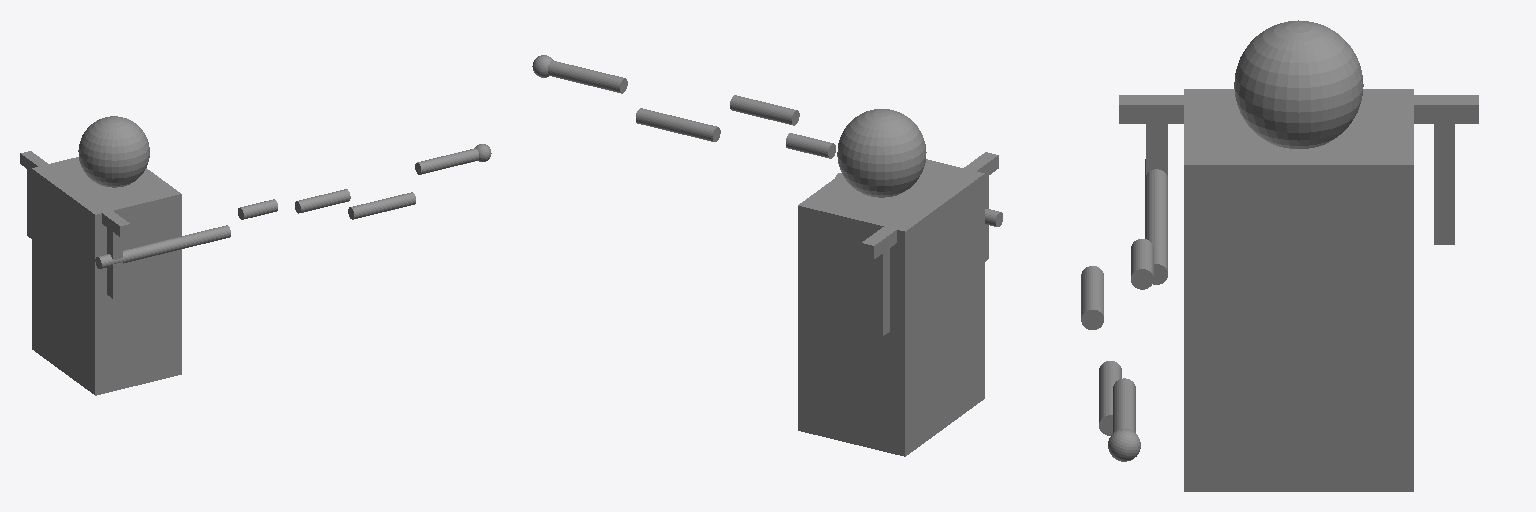
robot.urdf — arm_demo:
<?xml version="1.0" encoding="utf-8"?>
<!-- =================================================================================== -->
<!-- |    This document was autogenerated by xacro from 4dof_robot.xacro               | -->
<!-- |    EDITING THIS FILE BY HAND IS NOT RECOMMENDED                                 | -->
<!-- =================================================================================== -->
<robot name="arm_demo">
  <!-- *************************** XACRO MACROS *************************** -->
  <!-- ************************* ROBOT DEFINITION ************************* -->
  <link name="world"/>
  <link name="shoulder_len">
    <visual>
      <origin rpy="0 0 0" xyz="0 .2475 0"/>
      <geometry>
        <box size="0.03 0.5 0.03"/>
      </geometry>
      <material name="silver">
        <color rgba="0.6 0.6 0.6 1"/>
      </material>
    </visual>
    <collision>
      <origin rpy="0 0 0" xyz="0 -.2475 0"/>
      <geometry>
        <box size="0.03 0.5 0.03"/>
      </geometry>
    </collision>
    <inertial>
      <origin rpy="0 0 0" xyz="0 .2475 0"/>
      <mass value="1.0"/>
      <inertia ixx=".021" ixy="0.0" ixz="0.0" iyy=".021" iyz="0.0" izz=".00015"/>
    </inertial>
  </link>
  <link name="body">
    <visual>
      <origin rpy="0 0 0" xyz=".09 0.2475 -.25"/>
      <geometry>
        <box size="0.25 0.32 .5"/>
      </geometry>
      <material name="silver">
        <color rgba="0.6 0.6 0.6 1"/>
      </material>
    </visual>
    <collision>
      <origin rpy="0 0 0" xyz=".09 0.2475 -.25"/>
      <geometry>
        <box size="0.18 0.32 0.5"/>
      </geometry>
    </collision>
    <inertial>
      <origin rpy="0 0 0" xyz=".09 .2475 -.25"/>
      <mass value="1.0"/>
      <inertia ixx=".112" ixy="0.0" ixz="0.0" iyy=".029" iyz="0.0" izz=".0235"/>
    </inertial>
  </link>
  <link name="head">
    <visual>
      <origin rpy="0 0 0" xyz=".09 0.2475 .09"/>
      <geometry>
        <sphere radius="0.09"/>
      </geometry>
      <material name="silver">
        <color rgba="0.6 0.6 0.6 1"/>
      </material>
    </visual>
    <collision>
      <origin rpy="0 0 0" xyz=".09 0.2475 .09"/>
      <geometry>
        <sphere radius="0.09"/>
      </geometry>
    </collision>
    <inertial>
      <origin rpy="0 0 0" xyz=".09 0.2475 .09"/>
      <mass value="1.0"/>
      <inertia ixx=".00324" ixy="0.0" ixz="0.0" iyy=".00324" iyz="0.0" izz=".00324"/>
    </inertial>
  </link>
  <link name="rodR">
    <visual>
      <origin rpy="0 0 0" xyz="0 .02 -.1"/>
      <geometry>
        <box size="0.03 0.03 0.2"/>
      </geometry>
      <material name="silver">
        <color rgba="0.6 0.6 0.6 1"/>
      </material>
    </visual>
    <collision>
      <origin rpy="0 0 0" xyz="0 -.025 -.1"/>
      <geometry>
        <box size="0.03 0.03 0.2"/>
      </geometry>
    </collision>
    <inertial>
      <origin rpy="0 0 0" xyz="0 -.025 -.1"/>
      <mass value="1.0"/>
      <inertia ixx=".0034" ixy="0.0" ixz="0.0" iyy=".0034" iyz="0.0" izz=".00015"/>
    </inertial>
  </link>
  <link name="rodL">
    <visual>
      <origin rpy="0 0 0" xyz="0 -.025 -.1"/>
      <geometry>
        <box size="0.03 0.03 0.2"/>
      </geometry>
      <material name="silver">
        <color rgba="0.6 0.6 0.6 1"/>
      </material>
    </visual>
    <collision>
      <origin rpy="0 0 0" xyz="0 -.025 -.1"/>
      <geometry>
        <box size="0.03 0.03 0.2"/>
      </geometry>
    </collision>
    <inertial>
      <origin rpy="0 0 0" xyz="0 -.025 -.1"/>
      <mass value="1.0"/>
      <inertia ixx=".0034" ixy="0.0" ixz="0.0" iyy=".0034" iyz="0.0" izz=".00015"/>
    </inertial>
  </link>
  <joint name="right_arm" type="fixed">
    <parent link="world"/>
    <child link="rodR"/>
    <origin rpy="0 0 0" xyz="-.34 0.03 0.5"/>
  </joint>
  <joint name="left_arm" type="fixed">
    <parent link="world"/>
    <child link="rodL"/>
    <origin rpy="0 0 0" xyz="-.34 0.475 0.5"/>
  </joint>
  <joint name="base_base" type="fixed">
    <parent link="world"/>
    <child link="motor1/INPUT_INTERFACE"/>
    <origin rpy="0 0 0" xyz="0 0.03 0.4"/>
  </joint>
  <joint name="base_s" type="fixed">
    <parent link="world"/>
    <child link="ms1/INPUT_INTERFACE"/>
    <origin rpy="0 0 0" xyz="0 0.03 0.4"/>
  </joint>
  <joint name="shoulder" type="fixed">
    <parent link="world"/>
    <child link="shoulder_len"/>
    <origin rpy="0 0 0" xyz="-.34 0 0.5"/>
  </joint>
  <joint name="body" type="fixed">
    <parent link="world"/>
    <child link="body"/>
    <origin rpy="0 0 0" xyz="-.34 0 0.515"/>
  </joint>
  <joint name="head" type="fixed">
    <parent link="world"/>
    <child link="head"/>
    <origin rpy="0 0 0" xyz="-.318 0 0.5"/>
  </joint>
  <link name="motor1/INPUT_INTERFACE">
    <visual>
      <origin rpy="0 0 0" xyz="0 0 0"/>
      <geometry>
        <mesh filename="package://hebi_description/meshes/X5.stl" scale="0.001 0.001 0.001"/>
      </geometry>
      <material name="red">
        <color rgba=".82 0.06 0.06 1"/>
      </material>
    </visual>
    <collision>
      <origin rpy="0 0 0" xyz="0 0 0"/>
      <geometry>
        <mesh filename="package://hebi_description/meshes/X5.stl" scale="0.001 0.001 0.001"/>
      </geometry>
    </collision>
    <inertial>
      <origin rpy="0 0 0" xyz="-0.0142 -0.0031 0.0165"/>
      <mass value="0.322"/>
      <mass value="0.360"/>
      <inertia ixx="0.00015" ixy="0.0000341" ixz="0.0000118" iyy="0.000255" iyz="0.00000229" izz="0.000350"/>
    </inertial>
  </link>
  <joint name="motor1/X5_9" type="continuous">
    <parent link="motor1/INPUT_INTERFACE"/>
    <child link="right_arm1/INPUT_INTERFACE"/>
    <origin rpy="0 0 0" xyz="0 0 0.031"/>
    <axis xyz="0 0 1"/>
    <limit effort="13.0" velocity="14"/>
    <dynamics damping="0.1" friction="0.1"/>
  </joint>
  <gazebo reference="motor1/INPUT_INTERFACE">
    <selfCollide>true</selfCollide>
    <gravity>true</gravity>
    <sensor name="motor1/imu_sensor" type="imu">
      <always_on>true</always_on>
      <update_rate>100</update_rate>
      <visualize>true</visualize>
      <plugin filename="libgazebo_imu_sensor.so" name="imu_plugin">
        <topicName>/hebi_gazebo_plugin/imu/motor1</topicName>
        <bodyName>motor1/imu_link</bodyName>
        <updateRateHZ>10.0</updateRateHZ>
        <gaussianNoise>0.0</gaussianNoise>
        <xyzOffset>0.025 0 0.003</xyzOffset>
        <rpyOffset>0 0 0</rpyOffset>
        <frameName>motor1/imu_link</frameName>
      </plugin>
      <pose>0 0 0 0 0 0</pose>
    </sensor>
  </gazebo>
  <link name="ms1/INPUT_INTERFACE">
    <visual>
      <origin rpy="0 0 0" xyz="0 0 0"/>
      <geometry>
        <mesh filename="package://hebi_description/meshes/A-2039-02.stl"/>
      </geometry>
      <material name="black">
        <color rgba="0 0 0 1"/>
      </material>
    </visual>
    <visual>
      <origin rpy="0 1.57075 0" xyz="-0.2 0.02 0"/>
      <geometry>
        <cylinder length="0.3746" radius=".016"/>
      </geometry>
      <material name="silver">
        <color rgba="0.6 0.6 0.6 1"/>
      </material>
    </visual>
    <collision>
      <origin rpy="0 1.57079632679 0" xyz="0 0 0"/>
      <geometry>
        <mesh filename="package://hebi_description/meshes/A-2038-02.stl"/>
      </geometry>
    </collision>
    <collision>
      <origin rpy="0 1.57075 0" xyz="0.2 -0.02 0"/>
      <geometry>
        <cylinder length="0.3746" radius=".016"/>
      </geometry>
    </collision>
    <collision>
      <origin rpy="0 0 0" xyz="0.4 0.0 0.04"/>
      <geometry>
        <mesh filename="package://hebi_description/meshes/A-2039-02.stl"/>
      </geometry>
    </collision>
    <!-- Approximate inertia as thin rod about x axis -->
    <inertial>
      <origin rpy="0 0 0" xyz="0.2 0 0.02"/>
      <mass value="0.432"/>
      <inertia ixx="0.0" ixy="0.0" ixz="0.0" iyy="0.00576" iyz="0.0" izz="0.00576"/>
    </inertial>
  </link>
  <gazebo reference="ms1/INPUT_INTERFACE">
    <selfCollide>true</selfCollide>
  </gazebo>
  <link name="right_arm1/INPUT_INTERFACE">
    <visual>
      <origin rpy="0 0 0" xyz="0 0 0"/>
      <geometry>
        <mesh filename="package://hebi_description/meshes/A-2038-02.stl"/>
      </geometry>
      <material name="black">
        <color rgba="0 0 0 1"/>
      </material>
    </visual>
    <visual>
      <origin rpy="0 1.57075 0" xyz="0.0625 0 0.02"/>
      <geometry>
        <cylinder length="0.0996" radius=".016"/>
      </geometry>
      <material name="silver">
        <color rgba="0.6 0.6 0.6 1"/>
      </material>
    </visual>
    <visual>
      <origin rpy="1.3343 0 0" xyz="0.125 -0.0194432968708 0.0246859584714"/>
      <geometry>
        <mesh filename="package://hebi_description/meshes/A-2039-02.stl"/>
      </geometry>
      <material name="black">
        <color rgba="0 0 0 1"/>
      </material>
    </visual>
    <collision>
      <origin rpy="0 0 0" xyz="0 0 0"/>
      <geometry>
        <mesh filename="package://hebi_description/meshes/A-2038-02.stl"/>
      </geometry>
    </collision>
    <collision>
      <origin rpy="0 1.57075 0" xyz="0.0625 0 0.02"/>
      <geometry>
        <cylinder length="0.0996" radius=".016"/>
      </geometry>
    </collision>
    <collision>
      <origin rpy="1.3343 0 0" xyz="0.125 -0.0194432968708 0.0246859584714"/>
      <geometry>
        <mesh filename="package://hebi_description/meshes/A-2039-02.stl"/>
      </geometry>
    </collision>
    <!-- Approximate inertia as thin rod about x axis -->
    <inertial>
      <origin rpy="0 0 0" xyz="0.0625 0 0.02"/>
      <mass value="0.322"/>
      <inertia ixx="0.0" ixy="0.0" ixz="0.0" iyy="0.000419270833333" iyz="0.0" izz="0.000419270833333"/>
    </inertial>
  </link>
  <joint name="right_arm1/OUTPUT_JOINT" type="fixed">
    <parent link="right_arm1/INPUT_INTERFACE"/>
    <child link="motor2/INPUT_INTERFACE"/>
    <origin rpy="1.3343 0 0" xyz="0.125 -0.0194432968708 0.0246859584714"/>
  </joint>
  <gazebo reference="right_arm1/INPUT_INTERFACE">
    <selfCollide>true</selfCollide>
  </gazebo>
  <link name="motor2/INPUT_INTERFACE">
    <visual>
      <origin rpy="0 0 0" xyz="0 0 0"/>
      <geometry>
        <mesh filename="package://hebi_description/meshes/X5.stl" scale="0.001 0.001 0.001"/>
      </geometry>
      <material name="red">
        <color rgba=".82 0.06 0.06 1"/>
      </material>
    </visual>
    <collision>
      <origin rpy="0 0 0" xyz="0 0 0"/>
      <geometry>
        <mesh filename="package://hebi_description/meshes/X5.stl" scale="0.001 0.001 0.001"/>
      </geometry>
    </collision>
    <inertial>
      <origin rpy="0 0 0" xyz="-0.0142 -0.0031 0.0165"/>
      <mass value="0.322"/>
      <mass value="0.360"/>
      <inertia ixx="0.00015" ixy="0.0000341" ixz="0.0000118" iyy="0.000255" iyz="0.00000229" izz="0.000350"/>
    </inertial>
  </link>
  <joint name="motor2/X5_9" type="continuous">
    <parent link="motor2/INPUT_INTERFACE"/>
    <child link="right_arm2/INPUT_INTERFACE"/>
    <origin rpy="0 0 0" xyz="0 0 0.031"/>
    <axis xyz="0 0 1"/>
    <limit effort="13.0" velocity="14"/>
    <dynamics damping="0.1" friction="0.1"/>
  </joint>
  <gazebo reference="motor2/INPUT_INTERFACE">
    <selfCollide>true</selfCollide>
    <gravity>true</gravity>
    <sensor name="motor2/imu_sensor" type="imu">
      <always_on>true</always_on>
      <update_rate>100</update_rate>
      <visualize>true</visualize>
      <plugin filename="libgazebo_imu_sensor.so" name="imu_plugin">
        <topicName>/hebi_gazebo_plugin/imu/motor2</topicName>
        <bodyName>motor2/imu_link</bodyName>
        <updateRateHZ>10.0</updateRateHZ>
        <gaussianNoise>0.0</gaussianNoise>
        <xyzOffset>0.025 0 0.003</xyzOffset>
        <rpyOffset>0 0 0</rpyOffset>
        <frameName>motor2/imu_link</frameName>
      </plugin>
      <pose>0 0 0 0 0 0</pose>
    </sensor>
  </gazebo>
  <link name="right_arm2/INPUT_INTERFACE">
    <visual>
      <origin rpy="0 0 0" xyz="0 0 0"/>
      <geometry>
        <mesh filename="package://hebi_description/meshes/A-2038-02.stl"/>
      </geometry>
      <material name="black">
        <color rgba="0 0 0 1"/>
      </material>
    </visual>
    <visual>
      <origin rpy="0 1.57075 0" xyz="0.0846 0 0.02"/>
      <geometry>
        <cylinder length="0.1438" radius=".016"/>
      </geometry>
      <material name="silver">
        <color rgba="0.6 0.6 0.6 1"/>
      </material>
    </visual>
    <visual>
      <origin rpy="2.163 0 0" xyz="0.1692 -0.0165942524924 0.00883618415505"/>
      <geometry>
        <mesh filename="package://hebi_description/meshes/A-2039-02.stl"/>
      </geometry>
      <material name="black">
        <color rgba="0 0 0 1"/>
      </material>
    </visual>
    <collision>
      <origin rpy="0 0 0" xyz="0 0 0"/>
      <geometry>
        <mesh filename="package://hebi_description/meshes/A-2038-02.stl"/>
      </geometry>
    </collision>
    <collision>
      <origin rpy="0 1.57075 0" xyz="0.0846 0 0.02"/>
      <geometry>
        <cylinder length="0.1438" radius=".016"/>
      </geometry>
    </collision>
    <collision>
      <origin rpy="2.163 0 0" xyz="0.1692 -0.0165942524924 0.00883618415505"/>
      <geometry>
        <mesh filename="package://hebi_description/meshes/A-2039-02.stl"/>
      </geometry>
    </collision>
    <!-- Approximate inertia as thin rod about x axis -->
    <inertial>
      <origin rpy="0 0 0" xyz="0.0846 0 0.02"/>
      <mass value="0.33968"/>
      <inertia ixx="0.0" ixy="0.0" ixz="0.0" iyy="0.0008103813696" iyz="0.0" izz="0.0008103813696"/>
    </inertial>
  </link>
  <joint name="right_arm2/OUTPUT_JOINT" type="fixed">
    <parent link="right_arm2/INPUT_INTERFACE"/>
    <child link="motor3/INPUT_INTERFACE"/>
    <origin rpy="2.163 0 0" xyz="0.1692 -0.0165942524924 0.00883618415505"/>
  </joint>
  <gazebo reference="right_arm2/INPUT_INTERFACE">
    <selfCollide>true</selfCollide>
  </gazebo>
  <link name="motor3/INPUT_INTERFACE">
    <visual>
      <origin rpy="0 0 0" xyz="0 0 0"/>
      <geometry>
        <mesh filename="package://hebi_description/meshes/X5.stl" scale="0.001 0.001 0.001"/>
      </geometry>
      <material name="red">
        <color rgba=".82 0.06 0.06 1"/>
      </material>
    </visual>
    <collision>
      <origin rpy="0 0 0" xyz="0 0 0"/>
      <geometry>
        <mesh filename="package://hebi_description/meshes/X5.stl" scale="0.001 0.001 0.001"/>
      </geometry>
    </collision>
    <inertial>
      <origin rpy="0 0 0" xyz="-0.0142 -0.0031 0.0165"/>
      <mass value="0.322"/>
      <mass value="0.360"/>
      <inertia ixx="0.00015" ixy="0.0000341" ixz="0.0000118" iyy="0.000255" iyz="0.00000229" izz="0.000350"/>
    </inertial>
  </link>
  <joint name="motor3/X5_9" type="continuous">
    <parent link="motor3/INPUT_INTERFACE"/>
    <child link="right_arm3/INPUT_INTERFACE"/>
    <origin rpy="0 0 0" xyz="0 0 0.031"/>
    <axis xyz="0 0 1"/>
    <limit effort="13.0" velocity="14"/>
    <dynamics damping="0.1" friction="0.1"/>
  </joint>
  <gazebo reference="motor3/INPUT_INTERFACE">
    <selfCollide>true</selfCollide>
    <gravity>true</gravity>
    <sensor name="motor3/imu_sensor" type="imu">
      <always_on>true</always_on>
      <update_rate>100</update_rate>
      <visualize>true</visualize>
      <plugin filename="libgazebo_imu_sensor.so" name="imu_plugin">
        <topicName>/hebi_gazebo_plugin/imu/motor3</topicName>
        <bodyName>motor3/imu_link</bodyName>
        <updateRateHZ>10.0</updateRateHZ>
        <gaussianNoise>0.0</gaussianNoise>
        <xyzOffset>0.025 0 0.003</xyzOffset>
        <rpyOffset>0 0 0</rpyOffset>
        <frameName>motor3/imu_link</frameName>
      </plugin>
      <pose>0 0 0 0 0 0</pose>
    </sensor>
  </gazebo>
  <link name="right_arm3/INPUT_INTERFACE">
    <visual>
      <origin rpy="0 0 0" xyz="0 0 0"/>
      <geometry>
        <mesh filename="package://hebi_description/meshes/A-2038-02.stl"/>
      </geometry>
      <material name="black">
        <color rgba="0 0 0 1"/>
      </material>
    </visual>
    <visual>
      <origin rpy="0 1.57075 0" xyz="0.1024 0 0.02"/>
      <geometry>
        <cylinder length="0.1794" radius=".016"/>
      </geometry>
      <material name="silver">
        <color rgba="0.6 0.6 0.6 1"/>
      </material>
    </visual>
    <visual>
      <origin rpy="-3.7736 0 0" xyz="0.2048 -0.0118153112202 0.00386313472914"/>
      <geometry>
        <mesh filename="package://hebi_description/meshes/A-2039-02.stl"/>
      </geometry>
      <material name="black">
        <color rgba="0 0 0 1"/>
      </material>
    </visual>
    <collision>
      <origin rpy="0 0 0" xyz="0 0 0"/>
      <geometry>
        <mesh filename="package://hebi_description/meshes/A-2038-02.stl"/>
      </geometry>
    </collision>
    <collision>
      <origin rpy="0 1.57075 0" xyz="0.1024 0 0.02"/>
      <geometry>
        <cylinder length="0.1794" radius=".016"/>
      </geometry>
    </collision>
    <collision>
      <origin rpy="-3.7736 0 0" xyz="0.2048 -0.0118153112202 0.00386313472914"/>
      <geometry>
        <mesh filename="package://hebi_description/meshes/A-2039-02.stl"/>
      </geometry>
    </collision>
    <!-- Approximate inertia as thin rod about x axis -->
    <inertial>
      <origin rpy="0 0 0" xyz="0.1024 0 0.02"/>
      <mass value="0.35392"/>
      <inertia ixx="0.0" ixy="0.0" ixz="0.0" iyy="0.00123704005973" iyz="0.0" izz="0.00123704005973"/>
    </inertial>
  </link>
  <joint name="right_arm3/OUTPUT_JOINT" type="fixed">
    <parent link="right_arm3/INPUT_INTERFACE"/>
    <child link="motor4/INPUT_INTERFACE"/>
    <origin rpy="-3.7736 0 0" xyz="0.2048 -0.0118153112202 0.00386313472914"/>
  </joint>
  <gazebo reference="right_arm3/INPUT_INTERFACE">
    <selfCollide>true</selfCollide>
  </gazebo>
  <link name="motor4/INPUT_INTERFACE">
    <visual>
      <origin rpy="0 0 0" xyz="0 0 0"/>
      <geometry>
        <mesh filename="package://hebi_description/meshes/X5.stl" scale="0.001 0.001 0.001"/>
      </geometry>
      <material name="red">
        <color rgba=".82 0.06 0.06 1"/>
      </material>
    </visual>
    <collision>
      <origin rpy="0 0 0" xyz="0 0 0"/>
      <geometry>
        <mesh filename="package://hebi_description/meshes/X5.stl" scale="0.001 0.001 0.001"/>
      </geometry>
    </collision>
    <inertial>
      <origin rpy="0 0 0" xyz="-0.0142 -0.0031 0.0165"/>
      <mass value="0.322"/>
      <mass value="0.335"/>
      <inertia ixx="0.00015" ixy="0.0000341" ixz="0.0000118" iyy="0.000255" iyz="0.00000229" izz="0.000350"/>
    </inertial>
  </link>
  <joint name="motor4/X5_4" type="continuous">
    <parent link="motor4/INPUT_INTERFACE"/>
    <child link="sensor/INPUT_INTERFACE"/>
    <origin rpy="0 0 0" xyz="0 0 0.031"/>
    <axis xyz="0 0 1"/>
    <limit effort="7.0" velocity="32"/>
    <dynamics damping="0.1" friction="0.1"/>
  </joint>
  <gazebo reference="motor4/INPUT_INTERFACE">
    <selfCollide>true</selfCollide>
    <gravity>true</gravity>
    <sensor name="motor4/imu_sensor" type="imu">
      <always_on>true</always_on>
      <update_rate>100</update_rate>
      <visualize>true</visualize>
      <plugin filename="libgazebo_imu_sensor.so" name="imu_plugin">
        <topicName>/hebi_gazebo_plugin/imu/motor4</topicName>
        <bodyName>motor4/imu_link</bodyName>
        <updateRateHZ>10.0</updateRateHZ>
        <gaussianNoise>0.0</gaussianNoise>
        <xyzOffset>0.025 0 0.003</xyzOffset>
        <rpyOffset>0 0 0</rpyOffset>
        <frameName>motor4/imu_link</frameName>
      </plugin>
      <pose>0 0 0 0 0 0</pose>
    </sensor>
  </gazebo>
  <link name="sensor/INPUT_INTERFACE">
    <visual>
      <origin rpy="0 0 0" xyz="0 0 0"/>
      <geometry>
        <mesh filename="package://hebi_description/meshes/A-2038-02.stl"/>
      </geometry>
      <material name="black">
        <color rgba="0 0 0 1"/>
      </material>
    </visual>
    <visual>
      <origin rpy="0 1.57075 0" xyz="0.0967 0 0.02"/>
      <geometry>
        <cylinder length="0.168" radius=".016"/>
      </geometry>
      <material name="silver">
        <color rgba="0.6 0.6 0.6 1"/>
      </material>
    </visual>
    <visual>
      <origin rpy="0 0 0" xyz="0.1984 0 0.02"/>
      <geometry>
        <sphere radius="0.023"/>
      </geometry>
      <material name="silver">
        <color rgba="0.6 0.6 0.6 1"/>
      </material>
    </visual>
    <collision>
      <origin rpy="0 0 0" xyz="0 0 0"/>
      <geometry>
        <mesh filename="package://hebi_description/meshes/A-2038-02.stl"/>
      </geometry>
    </collision>
    <collision>
      <origin rpy="0 1.57075 0" xyz="0.0967 0 0.02"/>
      <geometry>
        <cylinder length="0.168" radius=".016"/>
      </geometry>
    </collision>
    <collision>
      <origin rpy="0 0 0" xyz="0.1934 0 0.02"/>
      <geometry>
        <sphere radius="0.02"/>
      </geometry>
    </collision>
    <!-- Approximate inertia as thin rod about x axis -->
    <inertial>
      <origin rpy="0 0 0" xyz="0.0967 0 0.02"/>
      <mass value="0.34936"/>
      <inertia ixx="0.0" ixy="0.0" ixz="0.0" iyy="0.00108894231013" iyz="0.0" izz="0.00108894231013"/>
    </inertial>
  </link>
  <joint name="end_joint" type="fixed">
    <parent link="sensor/INPUT_INTERFACE"/>
    <child link="end_link/INPUT_INTERFACE"/>
    <origin rpy="0 0 0" xyz="0.1934 0 0.02"/>
  </joint>
  <gazebo reference="sensor/INPUT_INTERFACE">
    <selfCollide>true</selfCollide>
  </gazebo>
  <!-- end link -->
  <link name="end_link/INPUT_INTERFACE">
  </link>
  <gazebo reference="base">
    <selfCollide>true</selfCollide>
  </gazebo>
  <gazebo>
    <plugin filename="libhebi_gazebo_plugin.so" name="hebi_gazebo_plugin">
    </plugin>
  </gazebo>
</robot>

--- Facts derived from the render (not from the file) ---
Views: 3 orthographic renders of the robot side by side, from view 1: azimuth 30°, elevation 25°; view 2: azimuth 150°, elevation 25°; view 3: azimuth 270°, elevation 25°.
Model arm_demo with 16 links and 15 joints (4 continuous, 11 fixed), rooted at world, posed all joints at 0.
Visible links, largest first — view 1: body, head, ms1/INPUT_INTERFACE, shoulder_len, sensor/INPUT_INTERFACE, rodR, right_arm3/INPUT_INTERFACE, right_arm2/INPUT_INTERFACE; view 2: body, head, shoulder_len, rodL, sensor/INPUT_INTERFACE, right_arm3/INPUT_INTERFACE, right_arm2/INPUT_INTERFACE, right_arm1/INPUT_INTERFACE; view 3: body, head, shoulder_len, rodL, ms1/INPUT_INTERFACE, sensor/INPUT_INTERFACE, right_arm2/INPUT_INTERFACE, right_arm3/INPUT_INTERFACE, right_arm1/INPUT_INTERFACE, rodR.
Link boxes in pixels (<box>): body: <box>32,157,181,395</box>; head: <box>78,116,149,187</box>; ms1/INPUT_INTERFACE: <box>95,225,230,268</box>; shoulder_len: <box>20,151,130,236</box>; sensor/INPUT_INTERFACE: <box>415,144,491,174</box>; rodR: <box>107,223,122,298</box>; right_arm3/INPUT_INTERFACE: <box>348,192,415,219</box>; right_arm2/INPUT_INTERFACE: <box>295,189,350,213</box>; body: <box>798,159,984,456</box>; head: <box>837,109,926,197</box>; shoulder_len: <box>862,152,998,258</box>; rodL: <box>870,242,889,336</box>; sensor/INPUT_INTERFACE: <box>532,55,627,93</box>; right_arm3/INPUT_INTERFACE: <box>636,108,720,141</box>; right_arm2/INPUT_INTERFACE: <box>730,95,799,125</box>; right_arm1/INPUT_INTERFACE: <box>786,133,835,158</box>; body: <box>1184,89,1413,491</box>; head: <box>1234,20,1363,148</box>; shoulder_len: <box>1119,95,1478,123</box>; rodL: <box>1434,115,1454,244</box>; ms1/INPUT_INTERFACE: <box>1145,159,1167,284</box>; sensor/INPUT_INTERFACE: <box>1108,378,1140,461</box>; right_arm2/INPUT_INTERFACE: <box>1081,266,1103,329</box>; right_arm3/INPUT_INTERFACE: <box>1099,361,1121,435</box>; right_arm1/INPUT_INTERFACE: <box>1131,239,1153,289</box>; rodR: <box>1146,115,1167,175</box>.
Bounding box of the posed robot: 1.11 × 0.5525 × 0.665 m (x, y, z).
0 mesh visuals loaded from 3 distinct referenced files (none loaded); not drawn: 12 (reference not matched to a file when rendering).